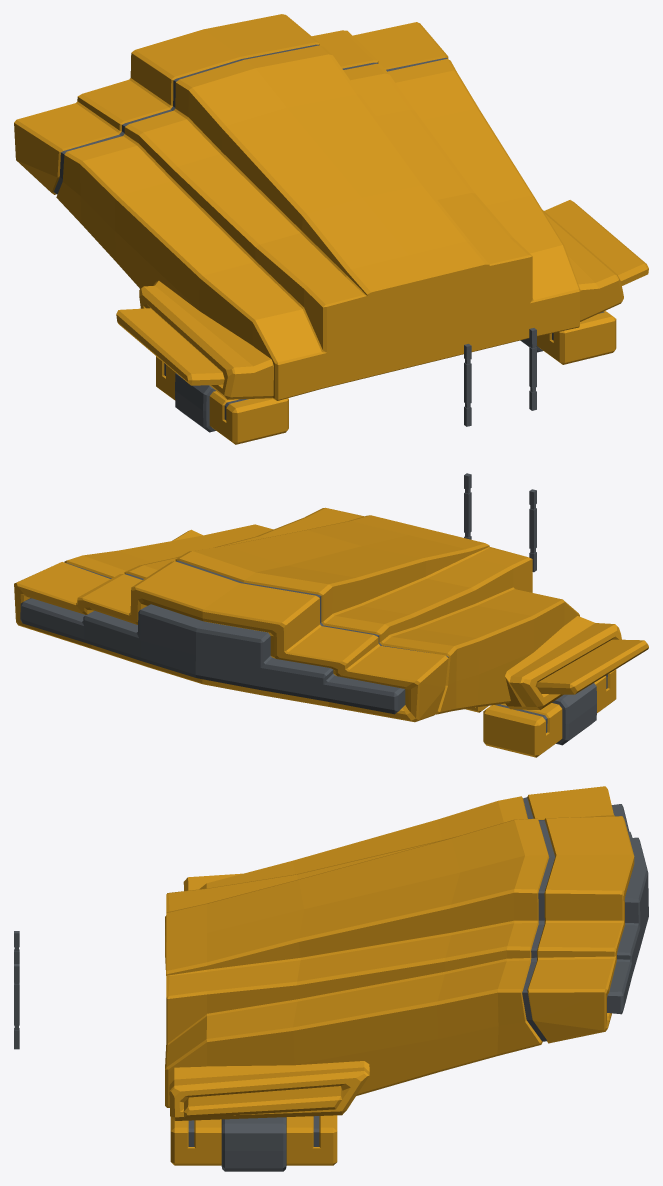
Rendered from Dropship_01_Rear_Body_Yellow.fbx.
3 renders of one model, top to bottom at view 1: azimuth 30°, elevation 25°; view 2: azimuth 150°, elevation 25°; view 3: azimuth 270°, elevation 25°, orthographic. The views are drawn at different scales.
Visible parts, largest first — view 1: Dropship_01_Rear_Body_Yellow; view 2: Dropship_01_Rear_Body_Yellow; view 3: Dropship_01_Rear_Body_Yellow.
Boxes of the visible parts, x1,y1,x2,y2 form: Dropship_01_Rear_Body_Yellow: (14,14,648,444); Dropship_01_Rear_Body_Yellow: (14,473,648,757); Dropship_01_Rear_Body_Yellow: (14,786,648,1171).
Bounding box in the file's own units: 1331 × 589 × 1529.
1 material, 1 textured.
